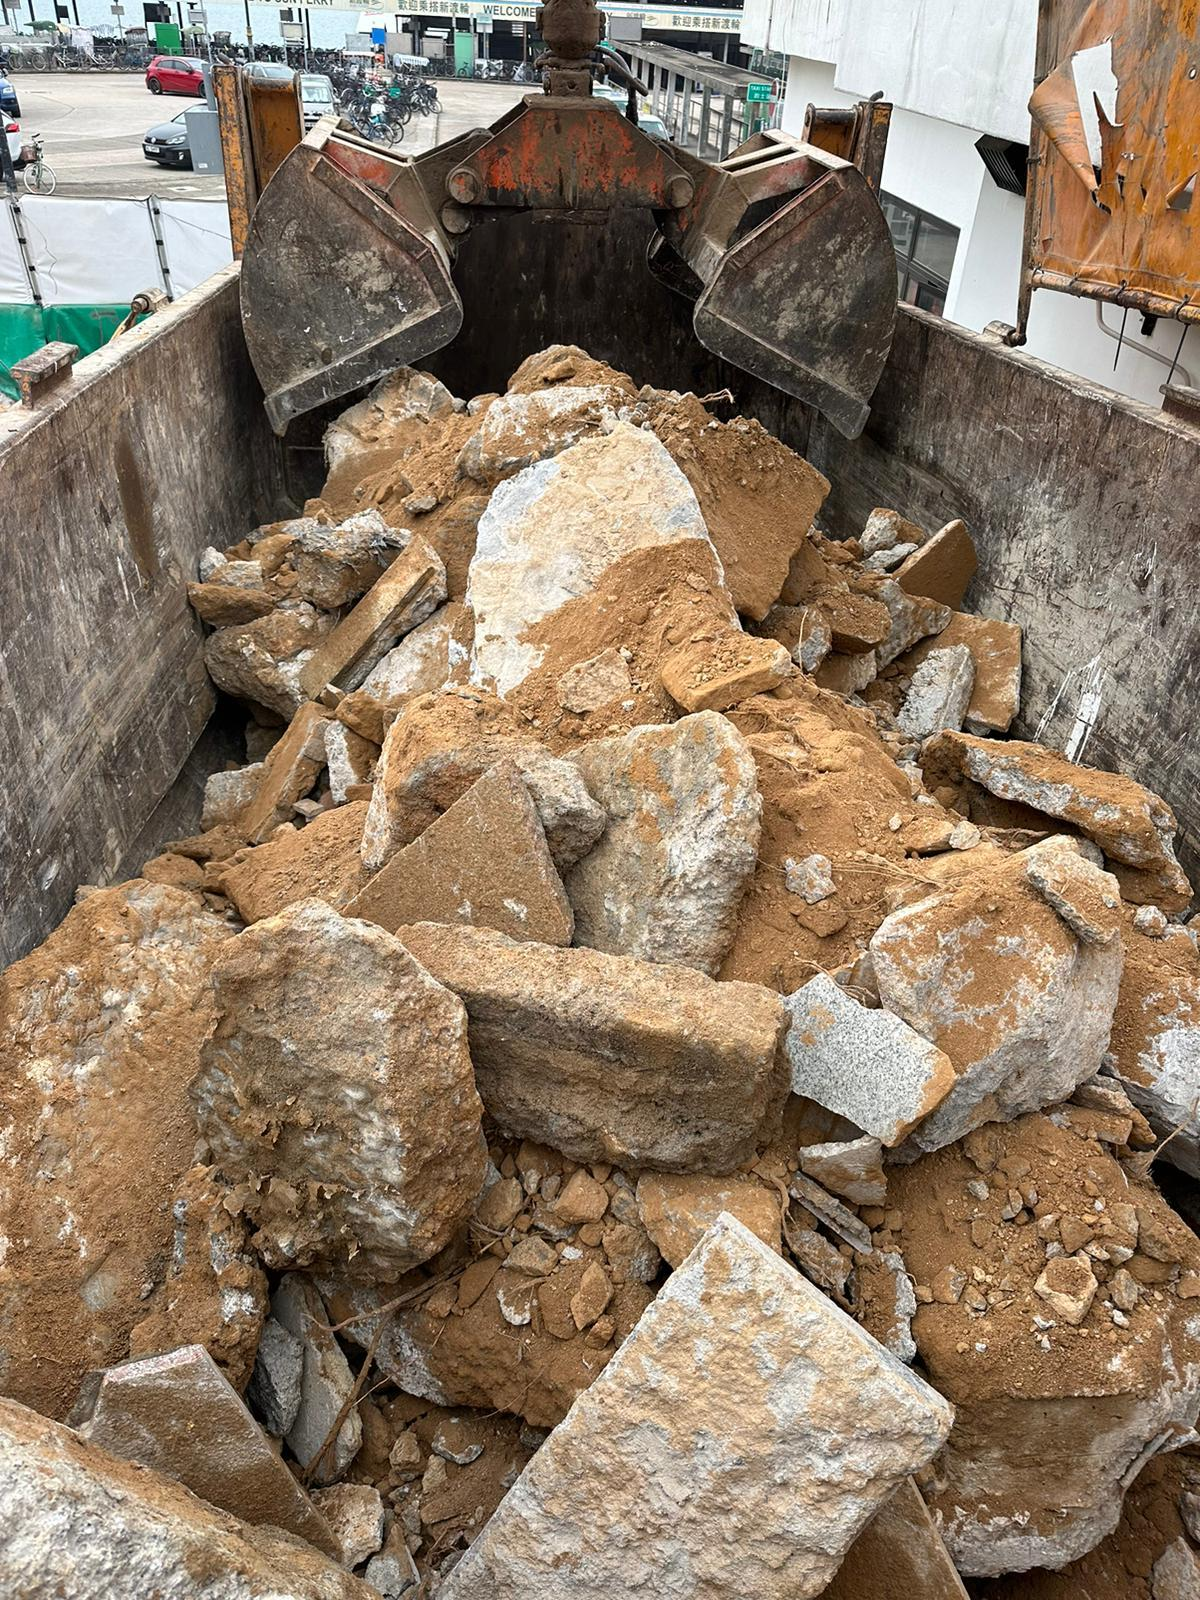dry: (0, 345, 1195, 1582)
